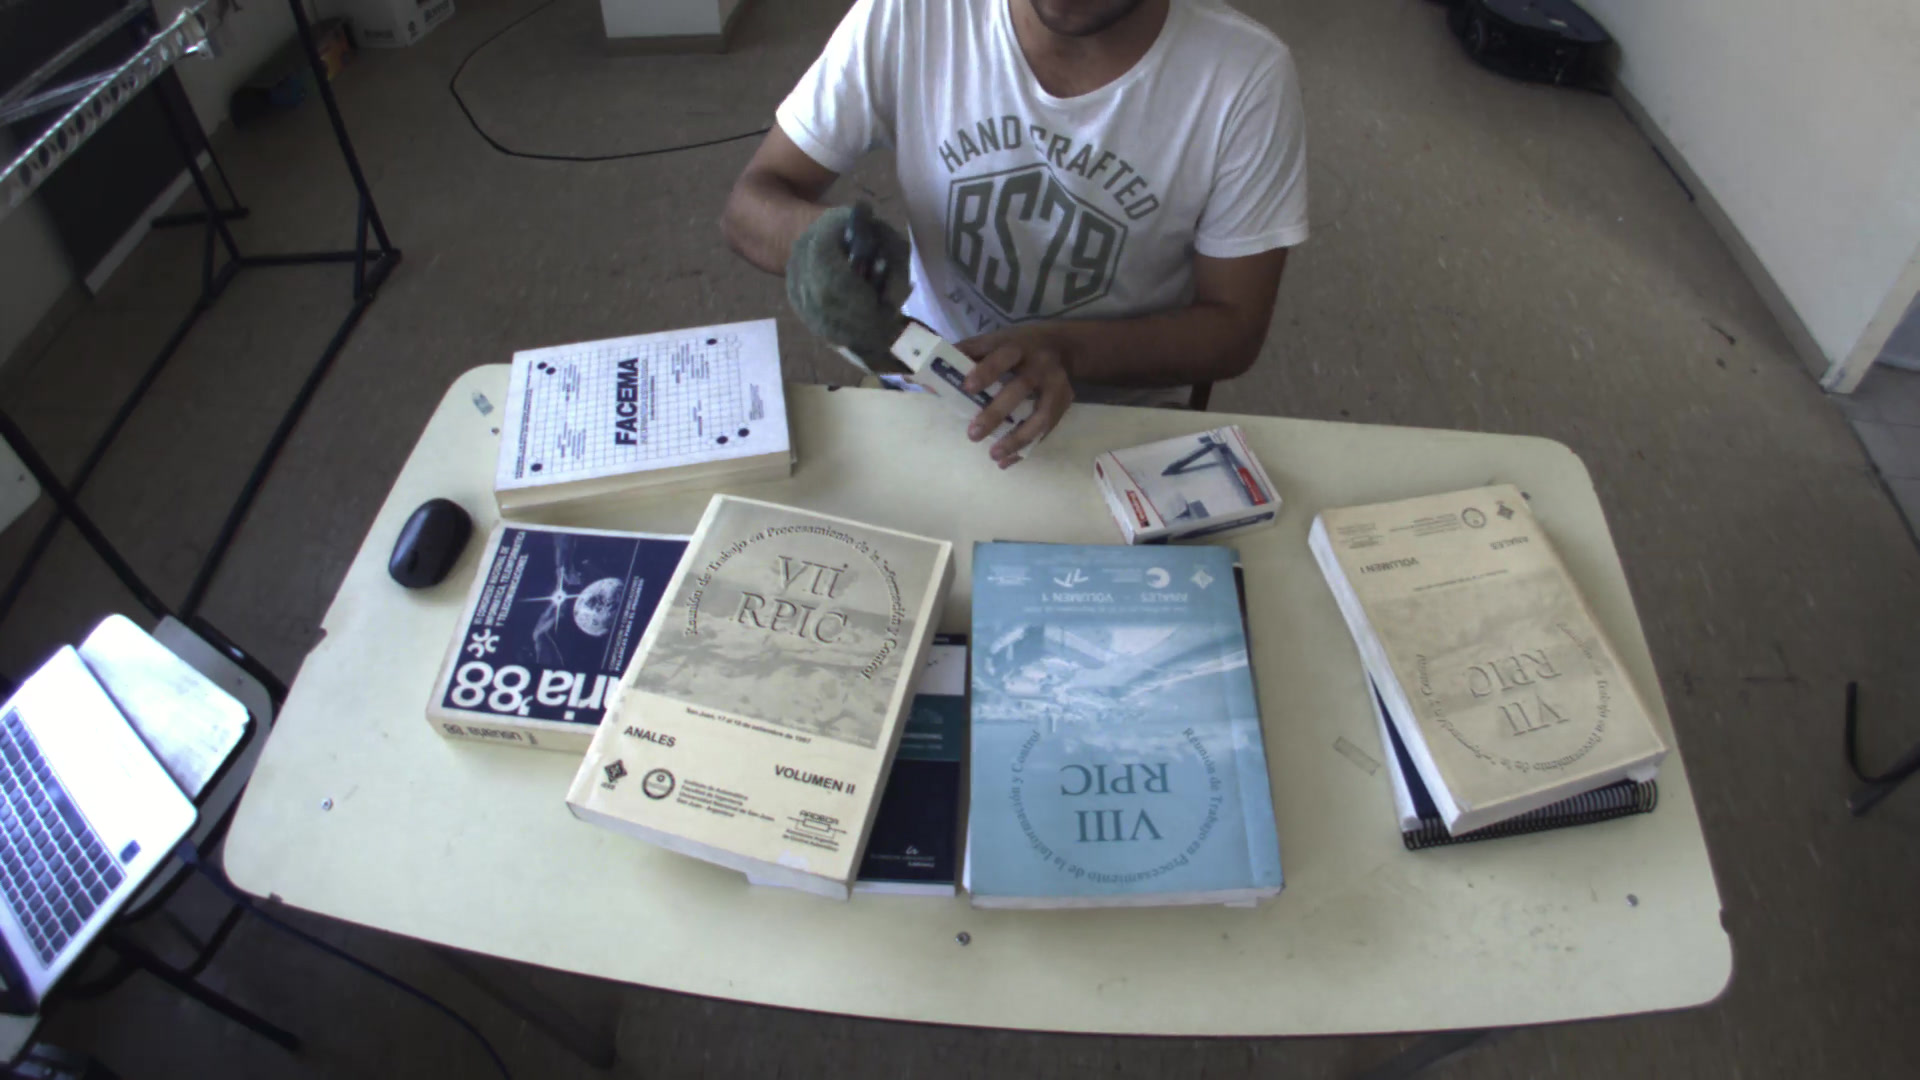hand: (769, 199, 920, 382), (935, 309, 1095, 472)
